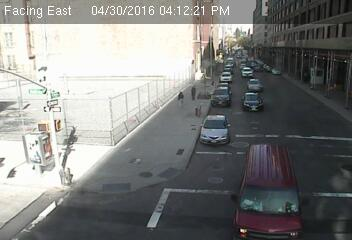neg: (257, 157, 288, 198), (313, 77, 335, 107), (213, 121, 230, 144), (264, 106, 274, 120)
pos: (172, 86, 190, 110), (186, 78, 200, 98)
